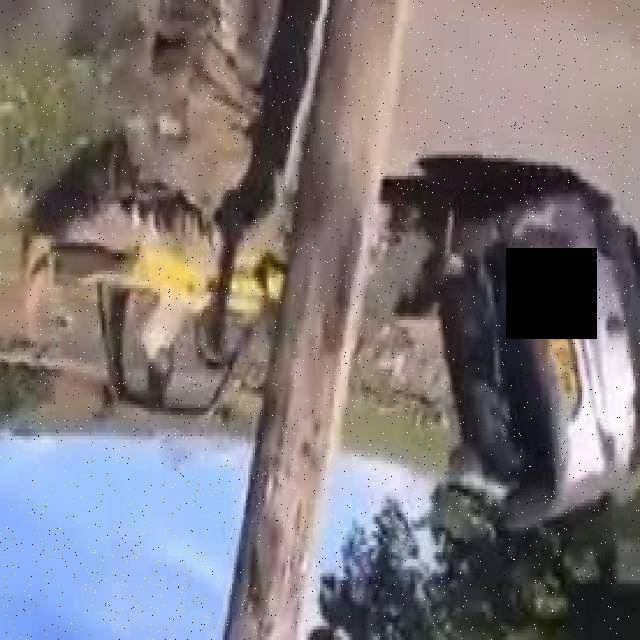severe: (417, 172, 640, 556)
